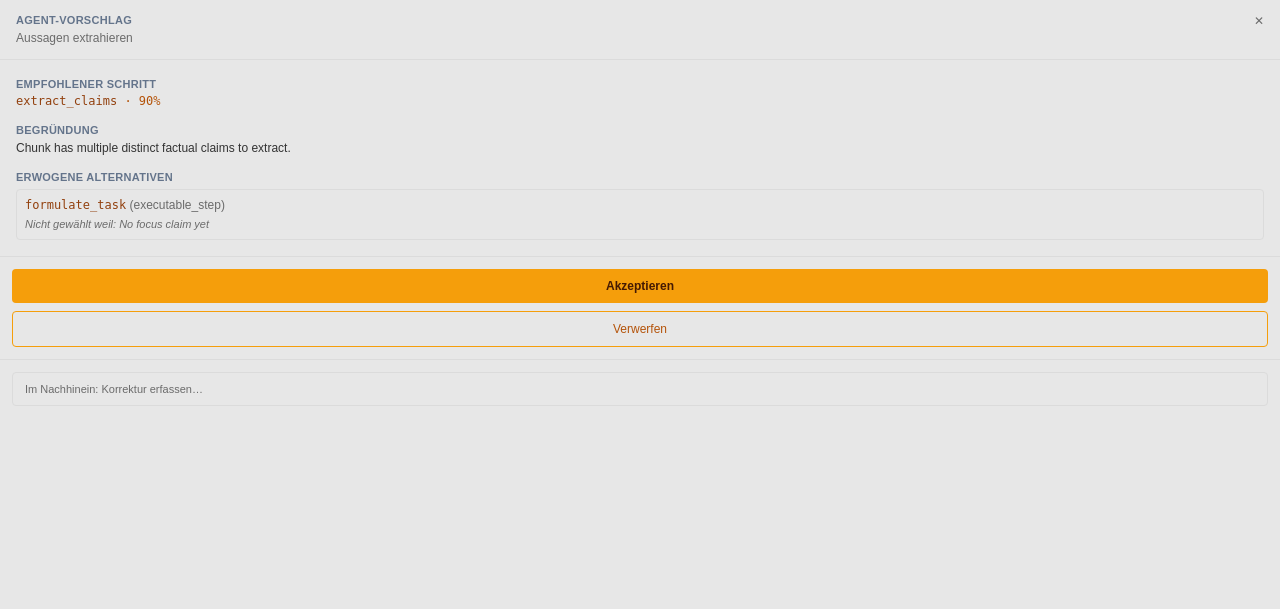
Test: PlanProposalPanel — Verwerfen morph › Esc collapses form back to Verwerfen button without submitting
Click the button "Verwerfen" at (640, 328), box [12, 310, 1268, 346]
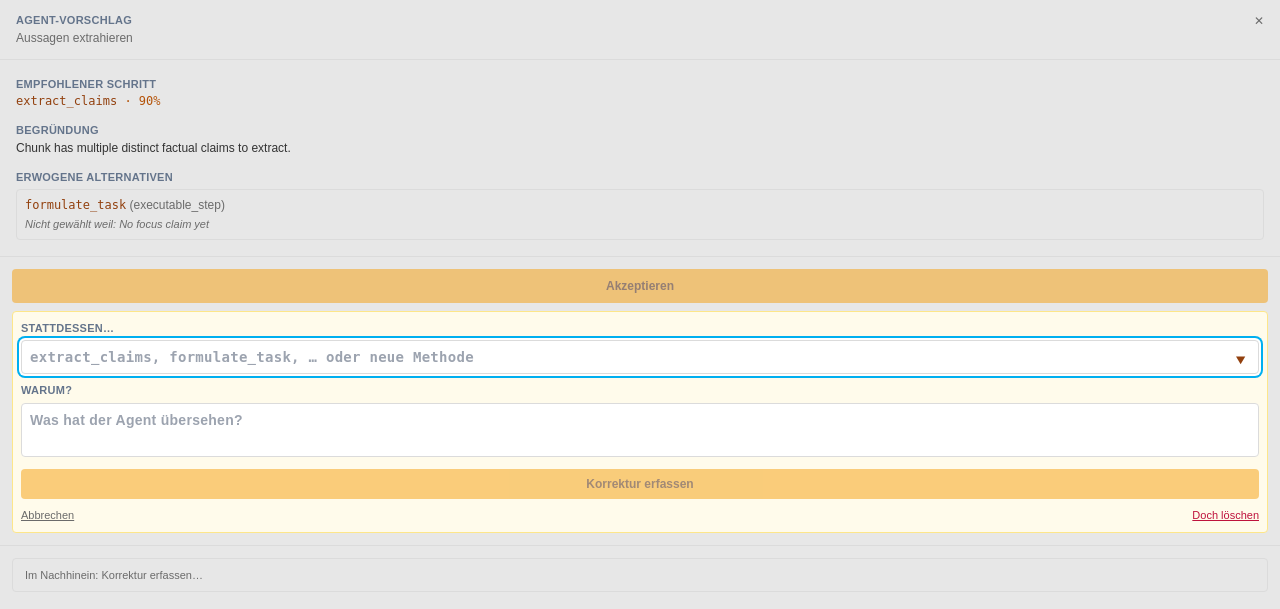
expect the field labelled "Stattdessen…" is shown: met, box [21, 340, 1259, 374]
Press Escape
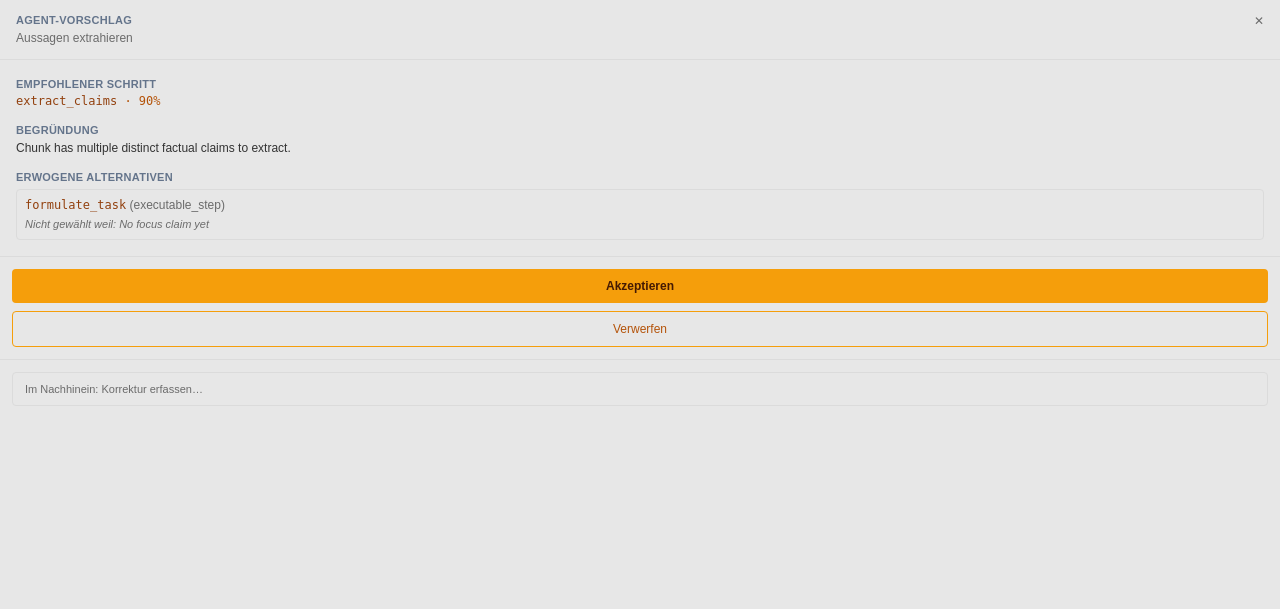
expect the label labelled "Stattdessen…" is gone: met
expect the button "Verwerfen" is shown: met, box [12, 310, 1268, 346]
expect the button "Akzeptieren" is enabled: met, box [12, 268, 1268, 302]
